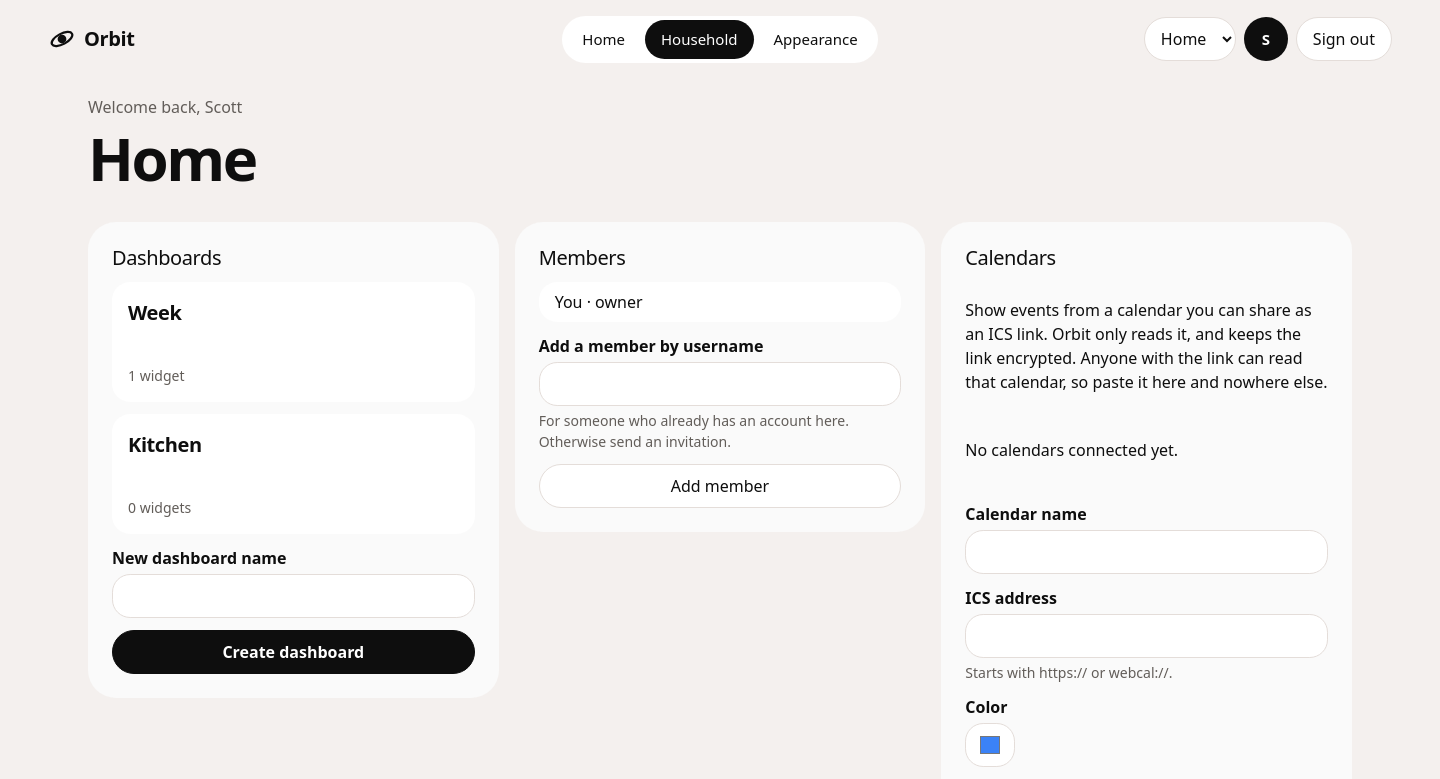
Test case: household page › adds a member by username
Type "bobby" into the field labelled "Add a member by username" at (720, 384), box [539,362,901,406]
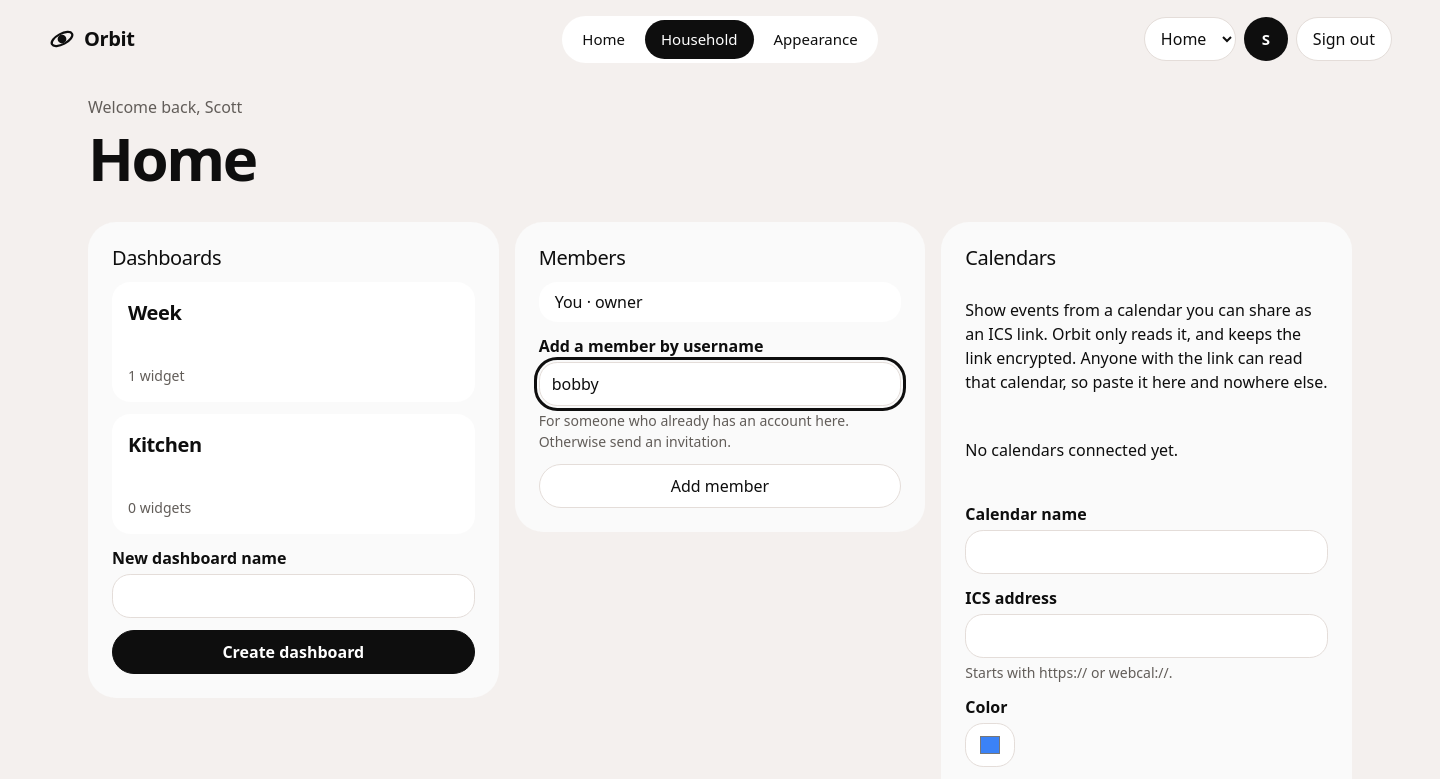
Click the button "Add member" at (720, 486), box [539,464,901,508]
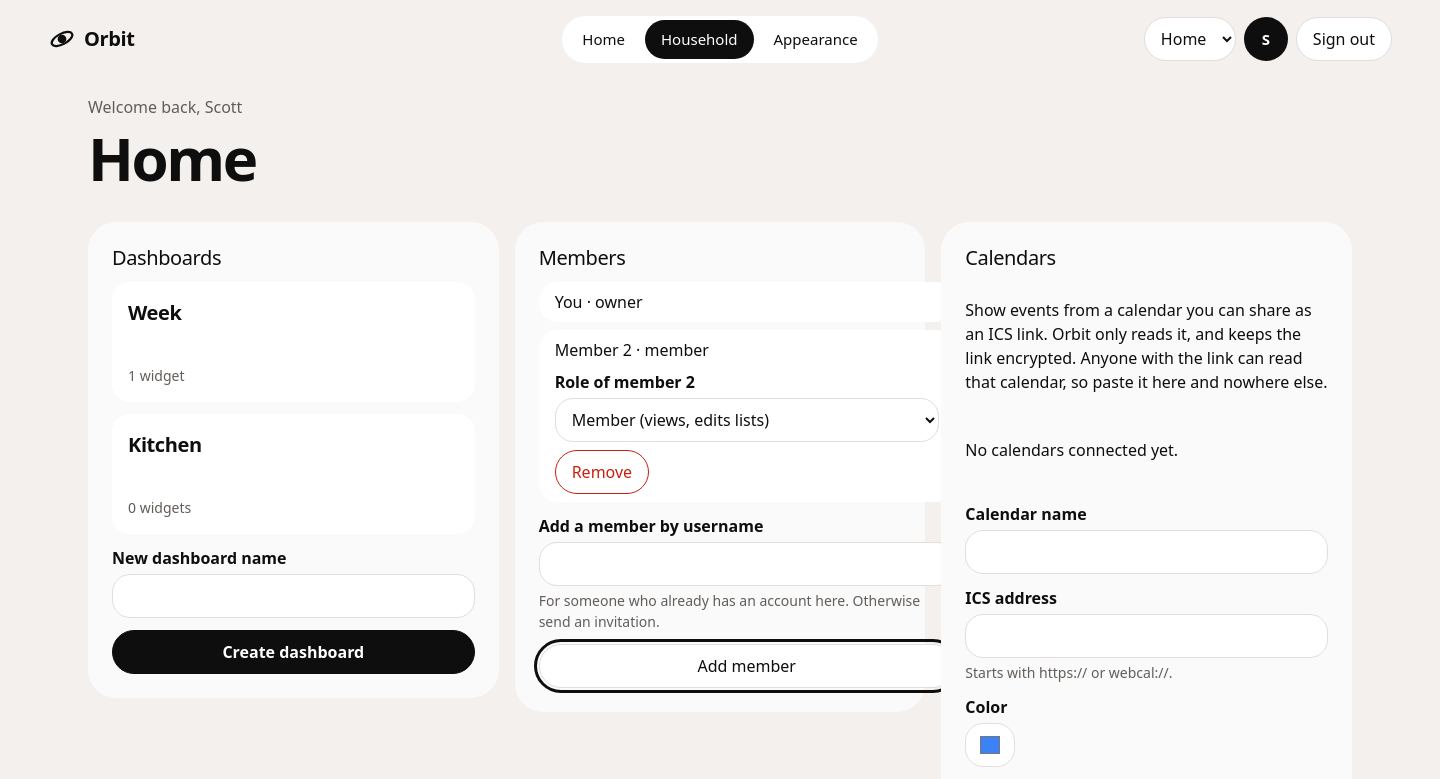
Expected: the field labelled "Add a member by username" is empty, [539,542,955,586]
Expected: the list item "Member 2 · member Role of member 2 Remove" is shown, [539,330,955,502]
